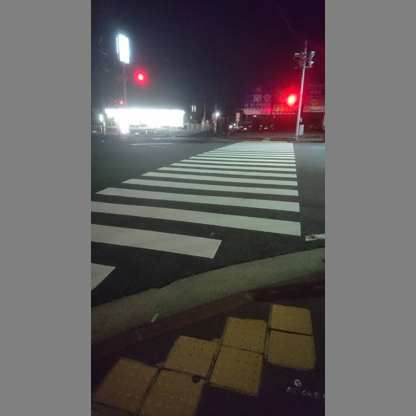brailleblock: (213, 343, 261, 397), (108, 369, 156, 416), (264, 328, 316, 369), (149, 368, 192, 415), (163, 343, 218, 378), (222, 319, 267, 352), (265, 307, 312, 332)
crosswalk: (159, 165, 303, 239), (189, 154, 303, 238), (127, 175, 223, 262), (207, 147, 295, 192)
signal: (284, 88, 299, 106)
